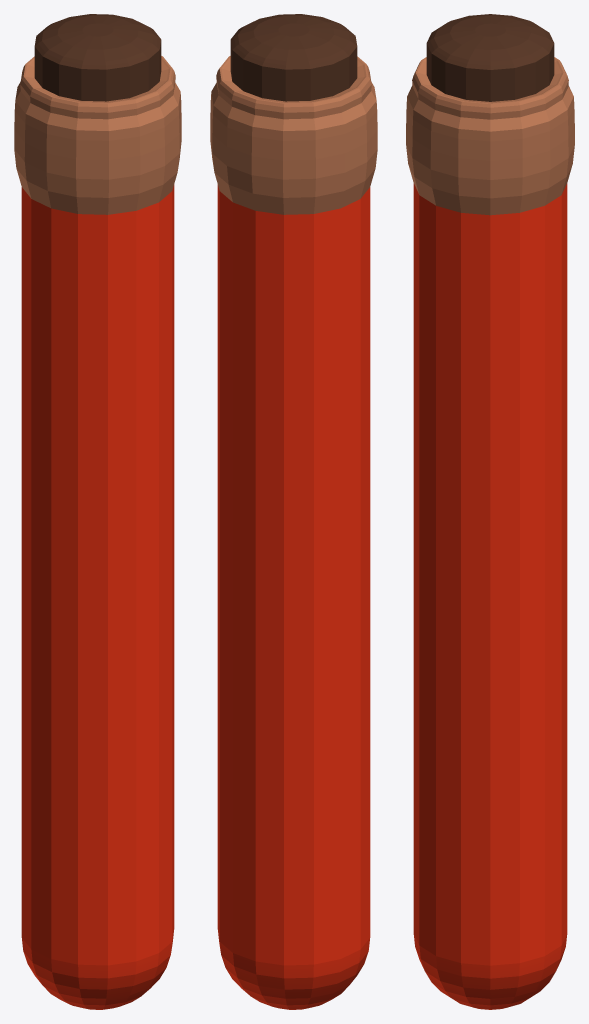
Rendered from small_potion.fbx.
The picture shows the model from 3 angles, left to right: view 1: azimuth 30°, elevation 25°; view 2: azimuth 150°, elevation 25°; view 3: azimuth 270°, elevation 25°; orthographic projection.
Visible parts, largest first — view 1: small_potion; view 2: small_potion; view 3: small_potion.
Part boxes in pixels (left/top/right/bottom): small_potion: left=14, top=14, right=181, bottom=1009; small_potion: left=210, top=14, right=377, bottom=1009; small_potion: left=406, top=14, right=574, bottom=1009.
Bounding box in the file's own units: 3.27 × 20.79 × 3.27.
